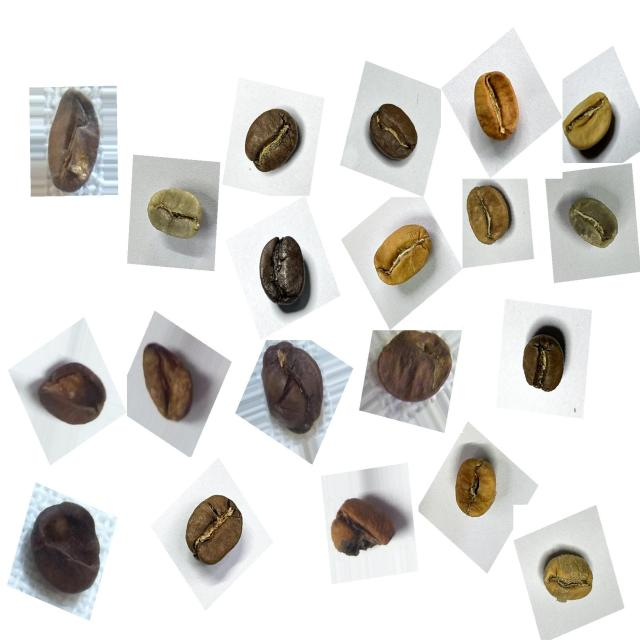bad: (22, 493, 108, 608), (32, 84, 111, 201), (252, 332, 333, 442), (371, 322, 460, 414), (134, 329, 213, 430), (30, 347, 113, 443), (321, 478, 406, 568)
dark: (244, 224, 319, 321)
green: (136, 171, 211, 256), (558, 184, 626, 263)
light: (458, 55, 536, 153), (364, 214, 444, 303), (552, 76, 626, 172), (530, 532, 605, 617), (444, 445, 510, 533), (453, 179, 523, 259)
medium: (174, 484, 255, 580), (234, 97, 310, 189), (359, 92, 428, 176), (509, 322, 578, 402)
